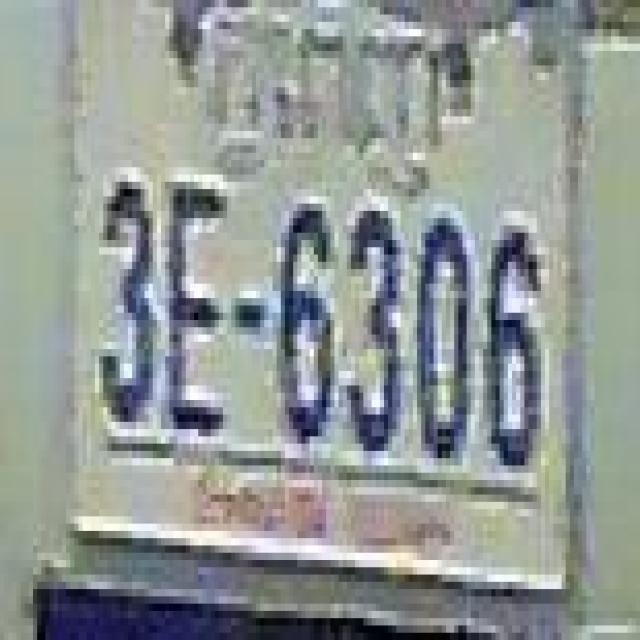Phnom_Penh: (207, 15, 443, 184)
